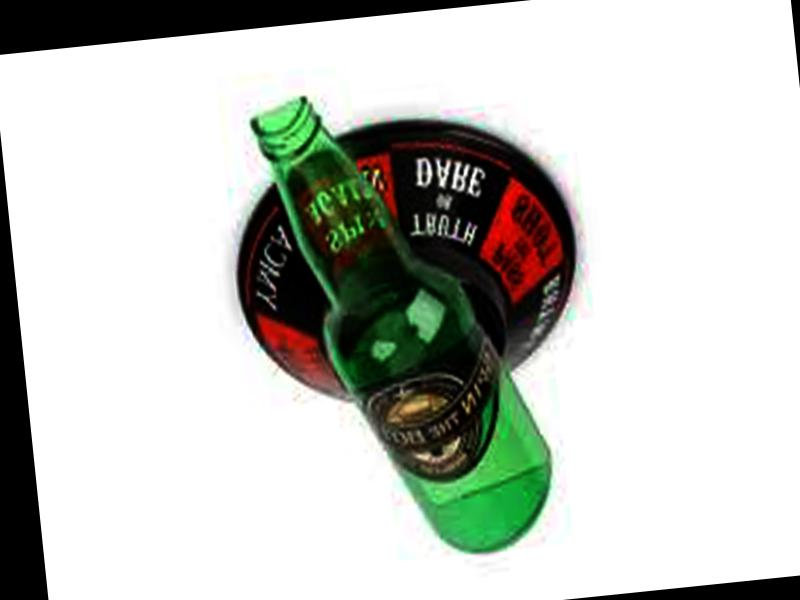Beer: (251, 74, 562, 570)
